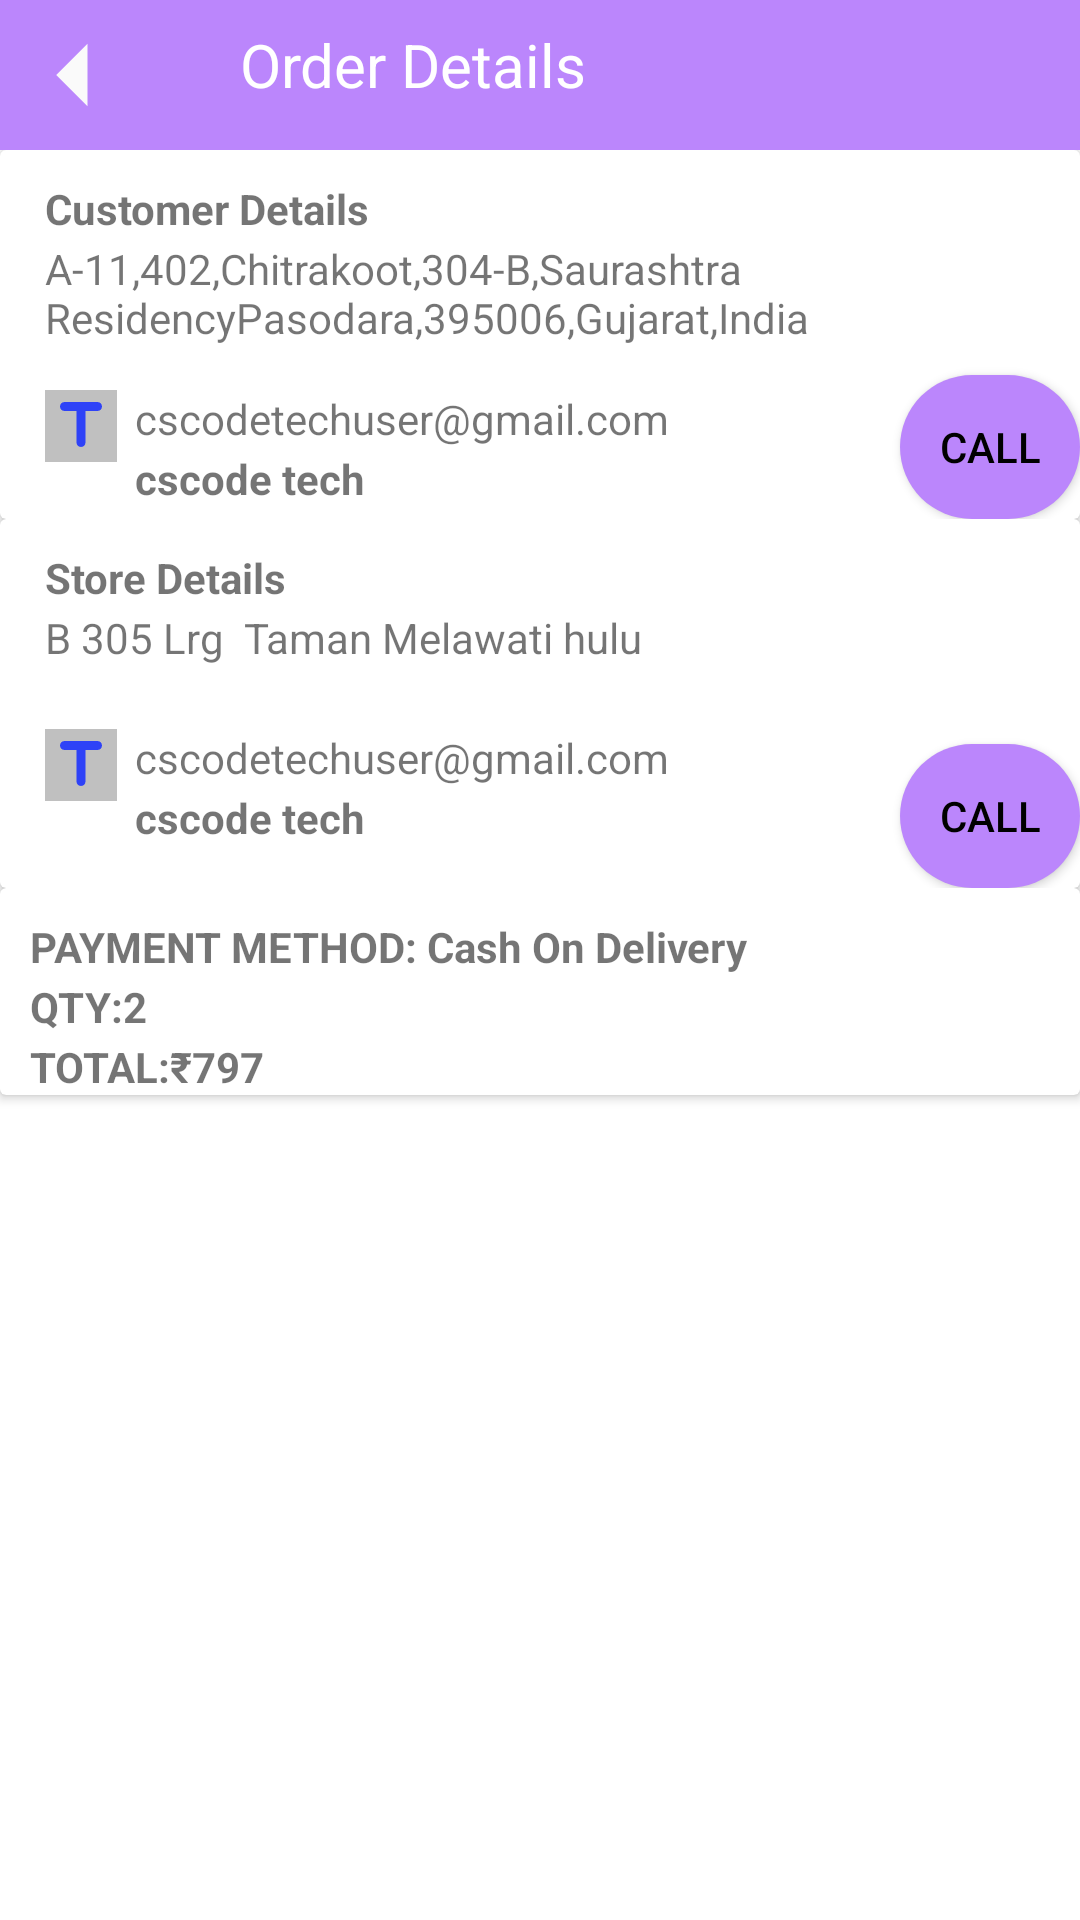

Where to tap for icons on this 1080×1920 app screen, as (x=x, y=y):
arrow left: (x=72, y=75)
